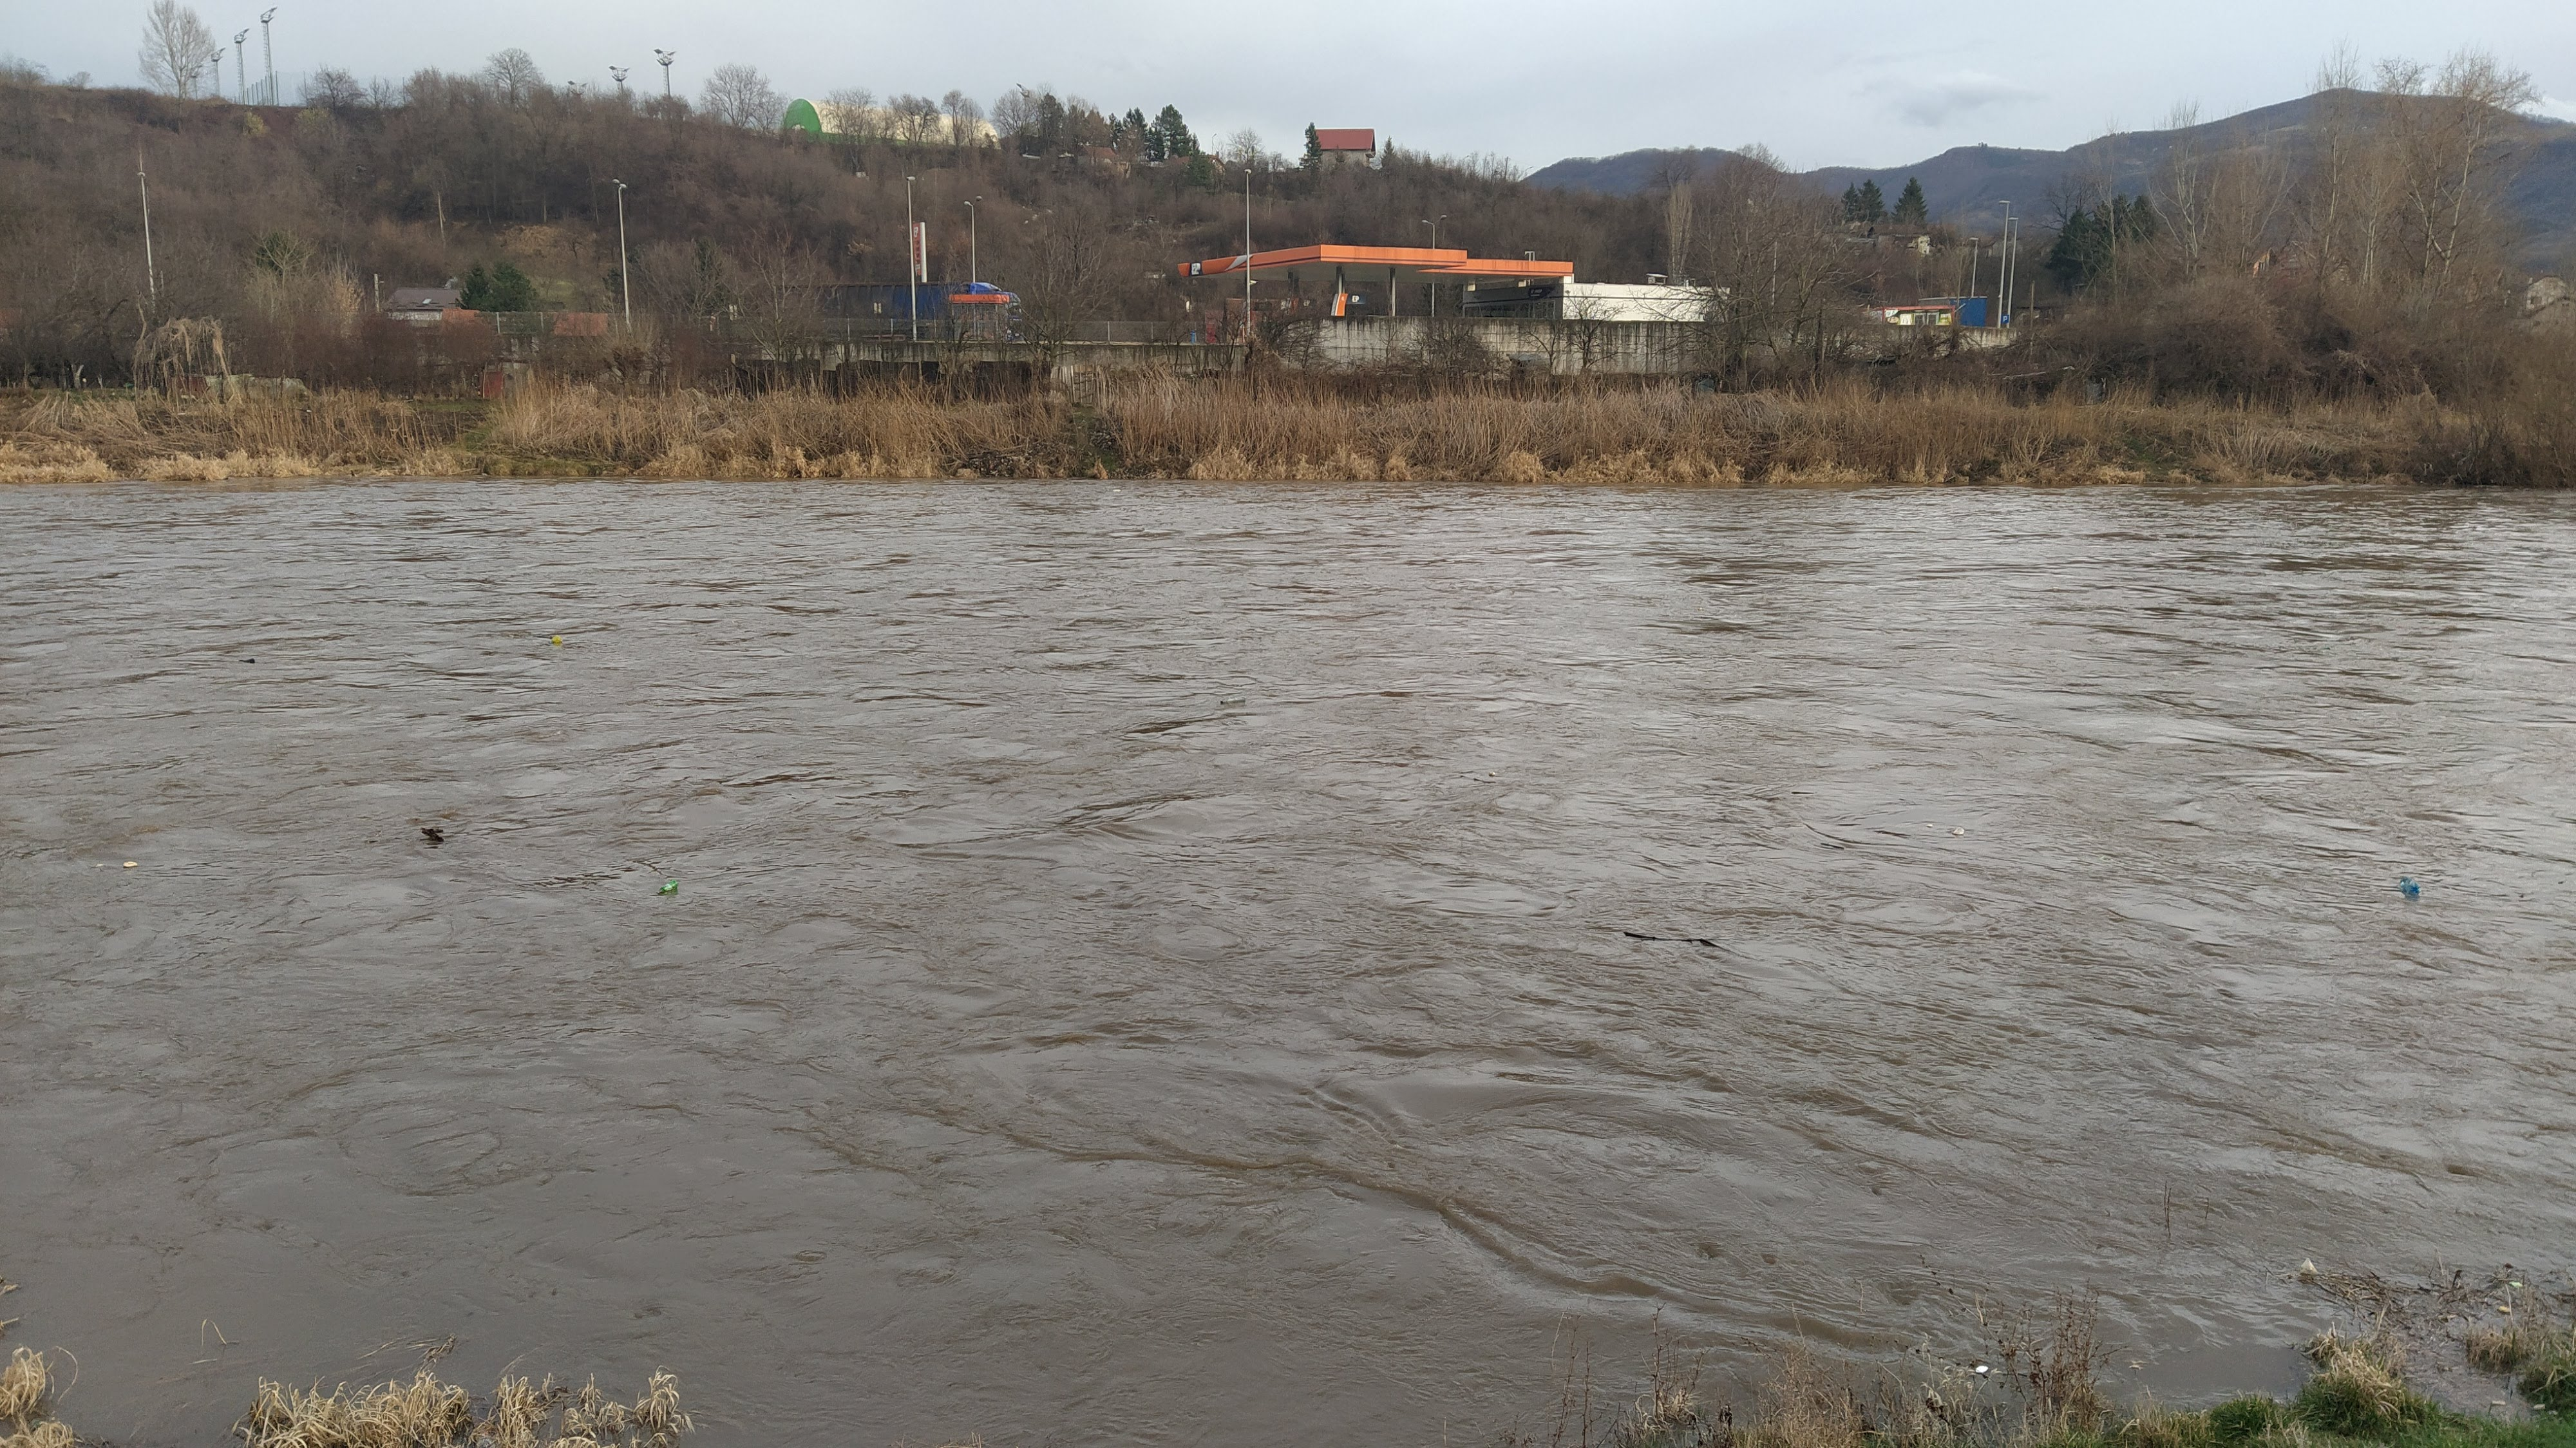Plastic Bottle: (2399, 876, 2420, 896), (2298, 1257, 2318, 1275), (656, 880, 678, 894), (1219, 696, 1246, 705), (1951, 827, 1964, 836), (239, 659, 255, 664), (552, 635, 561, 643)
